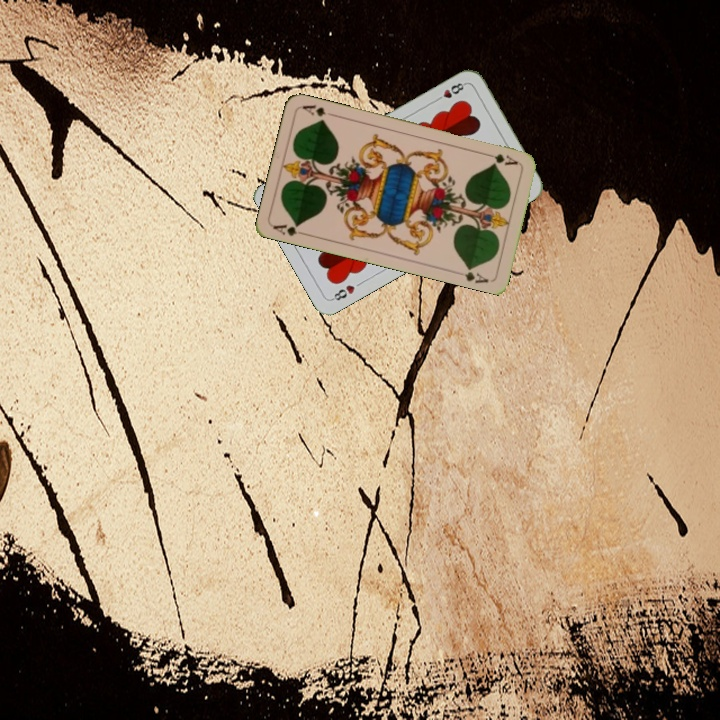GA: (269, 220, 310, 239), (482, 149, 520, 168)
H8: (431, 79, 468, 104), (328, 281, 357, 303)
